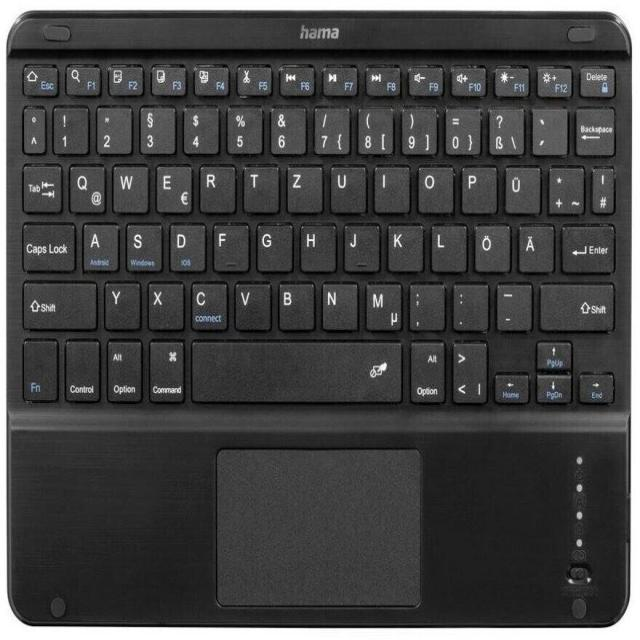0: (441, 103, 479, 154)
1: (50, 101, 88, 152)
2: (92, 102, 131, 153)
3: (135, 102, 175, 153)
4: (180, 102, 218, 152)
5: (223, 103, 261, 153)
6: (266, 103, 305, 154)
7: (311, 103, 349, 154)
8: (354, 104, 392, 154)
9: (396, 104, 436, 154)
a: (79, 218, 117, 270)
accent: (528, 103, 566, 153)
ae: (514, 220, 553, 271)
alt-left: (103, 335, 142, 402)
altgr-right: (407, 336, 445, 403)
b: (274, 277, 313, 329)
c: (187, 277, 226, 330)
caret: (20, 102, 44, 152)
comma: (404, 278, 444, 330)
d: (165, 219, 204, 270)
del: (573, 102, 616, 155)
e: (152, 161, 191, 212)
enter: (558, 219, 614, 272)
f: (209, 219, 248, 270)
g: (252, 219, 291, 271)
h: (296, 219, 335, 271)
hash: (588, 162, 614, 212)
i: (370, 161, 408, 211)
j: (340, 219, 378, 271)
k: (383, 219, 422, 271)
keyboard: (10, 43, 623, 427)
l: (427, 220, 465, 271)
less: (449, 337, 487, 405)
m: (361, 277, 400, 330)
minus: (493, 278, 531, 329)
n: (318, 277, 356, 329)
o: (413, 161, 452, 212)
oe: (471, 220, 509, 271)
p: (458, 161, 496, 212)
plus: (544, 161, 583, 212)
point: (449, 278, 487, 329)
q: (65, 160, 104, 212)
r: (196, 161, 234, 212)
s: (121, 218, 161, 270)
shift-left: (19, 276, 96, 328)
shift-lock: (18, 217, 74, 271)
shift-right: (537, 278, 615, 331)
space: (187, 335, 404, 402)
ss: (484, 103, 522, 154)
strg-left: (61, 335, 100, 402)
t: (239, 161, 278, 211)
tab: (19, 158, 61, 211)
u: (326, 160, 364, 212)
ue: (500, 161, 539, 212)
v: (231, 278, 270, 329)
w: (108, 159, 147, 211)
x: (144, 277, 183, 329)
y: (101, 277, 139, 329)
z: (283, 161, 321, 212)
